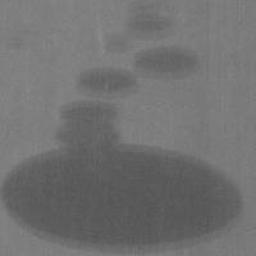Oil spot: (0, 0, 247, 256)
